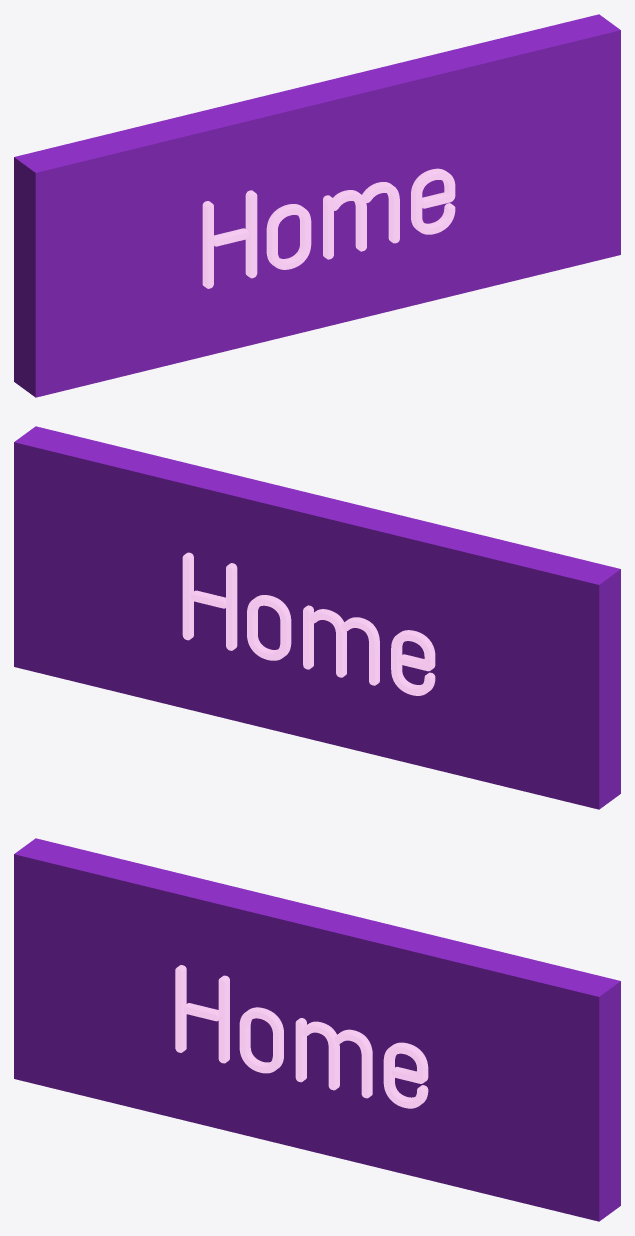
The model's file is home.glb.
3 views of the same model, one above another, from view 1: azimuth 30°, elevation 25°; view 2: azimuth 150°, elevation 25°; view 3: azimuth 330°, elevation 25° (orthographic).
Parts seen in each view (by area): view 1: Cube, Text; view 2: Cube, Text.001; view 3: Cube, Text.
Boxes of the visible parts, bbox=[...] form: Cube: bbox=[14, 14, 620, 397]; Text: bbox=[202, 168, 455, 288]; Cube: bbox=[14, 426, 620, 809]; Text.001: bbox=[182, 552, 435, 695]; Cube: bbox=[14, 838, 620, 1221]; Text: bbox=[175, 965, 428, 1108].
Bounding box in the file's own units: 4.27 × 1.57 × 0.3854.
